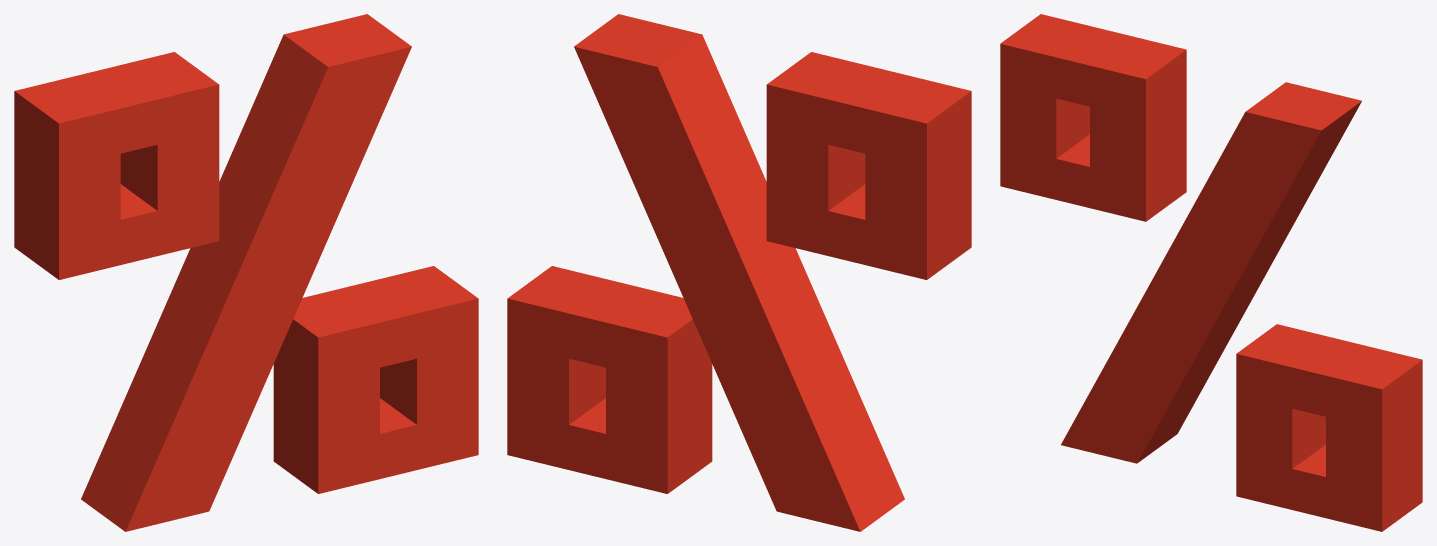
The model's file is Icon_Symbol_Percent.fbx.
3 views of the same model, side by side, from view 1: azimuth 30°, elevation 25°; view 2: azimuth 150°, elevation 25°; view 3: azimuth 330°, elevation 25° (orthographic). The views are drawn at different scales.
Visible parts, largest first — view 1: Icon_Symbol_Percent; view 2: Icon_Symbol_Percent; view 3: Icon_Symbol_Percent.
Boxes of the visible parts, x1,y1,x2,y2 form: Icon_Symbol_Percent: [14, 14, 478, 531]; Icon_Symbol_Percent: [507, 14, 971, 531]; Icon_Symbol_Percent: [1000, 14, 1422, 531].
Bounding box in the file's own units: 65.5 × 64.73 × 12.06.
